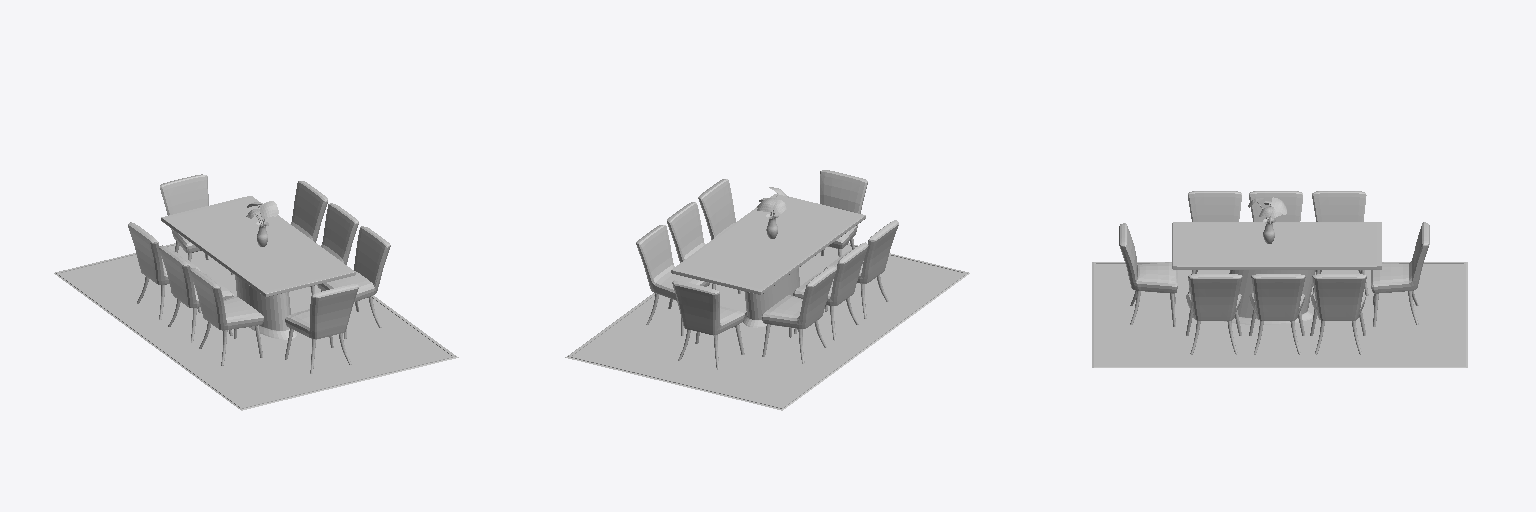
Rendered from table3.obj.
The picture shows the model from 3 angles: view 1: azimuth 30°, elevation 25°; view 2: azimuth 150°, elevation 25°; view 3: azimuth 270°, elevation 25°; orthographic projection.
Visible parts, largest first — view 1: Plane.001, mesajantar_Plane.007, cadeirajantar_Circle.017, cadeirajantar.006_Circle.010, cadeirajantar.001_Circle.001, cadeirajantar.007_Circle.012, cadeirajantar.005_Circle.009, cadeirajantar.004_Circle.008, cadeirajantar.002_Circle.002, cadeirajantar.003_Circle.003; view 2: Plane.001, mesajantar_Plane.007, cadeirajantar.007_Circle.012, cadeirajantar.004_Circle.008, cadeirajantar.003_Circle.003, cadeirajantar_Circle.017, cadeirajantar.005_Circle.009, cadeirajantar.006_Circle.010, cadeirajantar.002_Circle.002, cadeirajantar.001_Circle.001; view 3: Plane.001, mesajantar_Plane.007, cadeirajantar.001_Circle.001, cadeirajantar.002_Circle.002, cadeirajantar.003_Circle.003, cadeirajantar_Circle.017, cadeirajantar.007_Circle.012, cadeirajantar.004_Circle.008, cadeirajantar.006_Circle.010, cadeirajantar.005_Circle.009.
Boxes of the visible parts, x1,y1,x2,y2 form: Plane.001: [54, 243, 458, 410]; mesajantar_Plane.007: [161, 196, 355, 339]; cadeirajantar_Circle.017: [285, 284, 358, 373]; cadeirajantar.006_Circle.010: [190, 268, 263, 365]; cadeirajantar.001_Circle.001: [317, 226, 390, 338]; cadeirajantar.007_Circle.012: [160, 174, 233, 274]; cadeirajantar.005_Circle.009: [159, 245, 233, 342]; cadeirajantar.004_Circle.008: [128, 222, 201, 319]; cadeirajantar.002_Circle.002: [311, 203, 358, 294]; cadeirajantar.003_Circle.003: [291, 181, 327, 242]; Plane.001: [565, 243, 969, 410]; mesajantar_Plane.007: [671, 194, 865, 327]; cadeirajantar.007_Circle.012: [672, 280, 744, 369]; cadeirajantar.004_Circle.008: [761, 265, 836, 363]; cadeirajantar.003_Circle.003: [636, 225, 709, 335]; cadeirajantar_Circle.017: [820, 170, 867, 256]; cadeirajantar.005_Circle.009: [793, 242, 868, 340]; cadeirajantar.006_Circle.010: [824, 220, 898, 318]; cadeirajantar.002_Circle.002: [667, 202, 740, 302]; cadeirajantar.001_Circle.001: [698, 179, 735, 239]; Plane.001: [1092, 262, 1467, 367]; mesajantar_Plane.007: [1172, 222, 1381, 324]; cadeirajantar.001_Circle.001: [1186, 274, 1242, 354]; cadeirajantar.002_Circle.002: [1249, 274, 1305, 354]; cadeirajantar.003_Circle.003: [1310, 274, 1366, 354]; cadeirajantar_Circle.017: [1119, 223, 1177, 326]; cadeirajantar.007_Circle.012: [1371, 222, 1429, 326]; cadeirajantar.004_Circle.008: [1312, 191, 1368, 295]; cadeirajantar.006_Circle.010: [1188, 191, 1241, 293]; cadeirajantar.005_Circle.009: [1249, 191, 1302, 221].
Size of the model in its own units: 8.55 by 4.49 by 12.81.